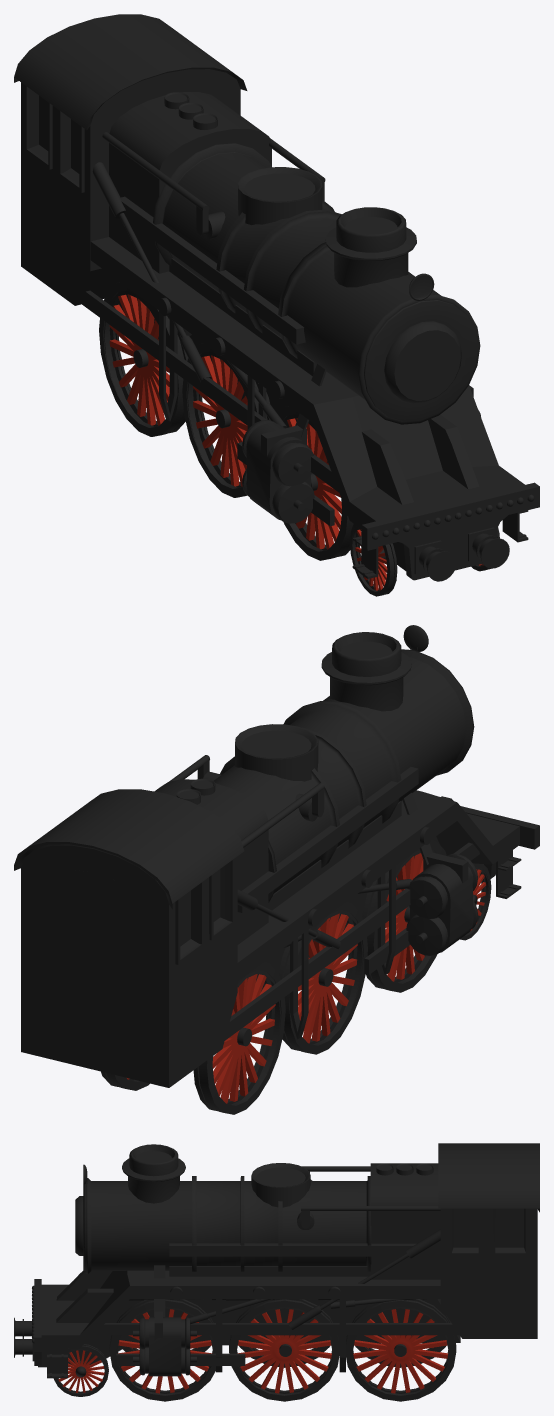
File: locomotive.glb
The picture shows the model from 3 angles, top to bottom: view 1: azimuth 30°, elevation 25°; view 2: azimuth 150°, elevation 25°; view 3: azimuth 270°, elevation 25°; orthographic projection. The views are drawn at different scales.
Visible parts, largest first — view 1: body, wheel-3, wheel-2, wheel-1, wheel-0; view 2: body, wheel-3, wheel-2, wheel-1, wheel-0; view 3: body, wheel-7, wheel-6, wheel-5, wheel-4.
Part boxes in pixels (left/top/right/bottom): body: left=14, top=14, right=539, bottom=581; wheel-3: left=99, top=282, right=188, bottom=436; wheel-2: left=182, top=343, right=270, bottom=497; wheel-1: left=278, top=406, right=353, bottom=560; wheel-0: left=350, top=524, right=397, bottom=596; body: left=14, top=625, right=539, bottom=1087; wheel-3: left=193, top=962, right=285, bottom=1114; wheel-2: left=278, top=902, right=367, bottom=1054; wheel-1: left=362, top=840, right=446, bottom=992; wheel-0: left=460, top=863, right=491, bottom=940; body: left=14, top=1143, right=539, bottom=1378; wheel-7: left=346, top=1299, right=456, bottom=1401; wheel-6: left=229, top=1299, right=339, bottom=1401; wheel-5: left=109, top=1299, right=215, bottom=1401; wheel-4: left=53, top=1344, right=108, bottom=1396.
Size of the model in its own units: 1.43 by 2.14 by 4.47.
